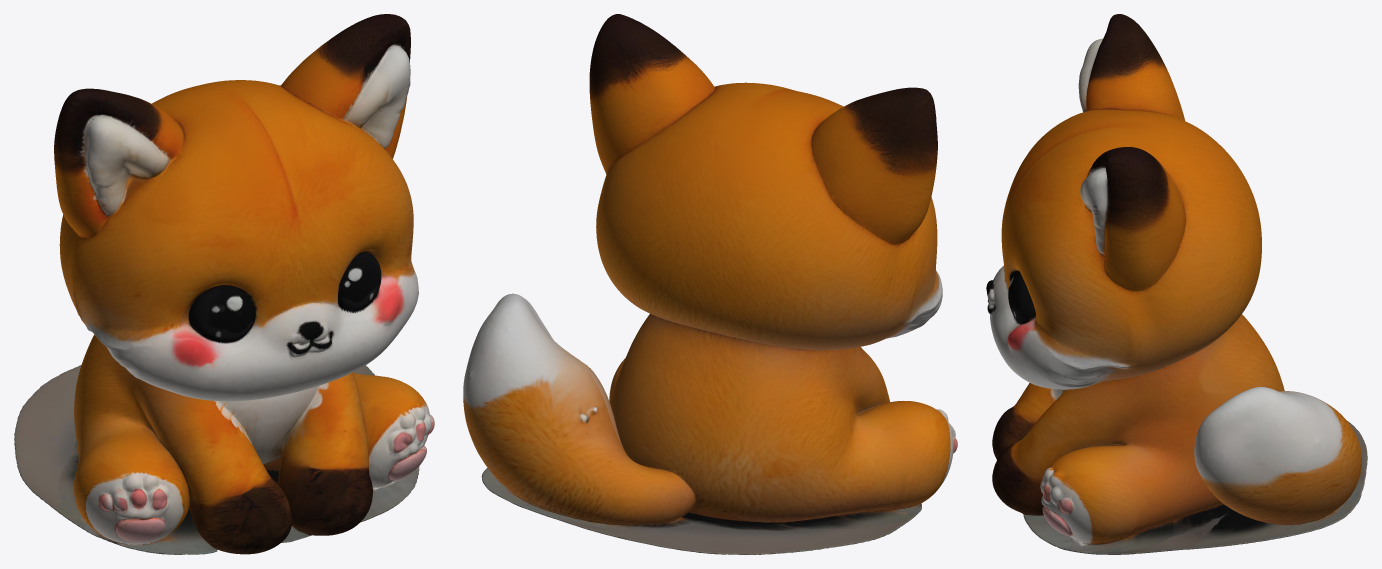
File: plush fox 3d model.glb
3 views of the same model, side by side, from view 1: azimuth 30°, elevation 25°; view 2: azimuth 150°, elevation 25°; view 3: azimuth 270°, elevation 25° (orthographic). The views are drawn at different scales.
Visible parts, largest first — view 1: tripo_node_f19a5df5-c2f6-42d5-8ebb-b0045eabef44; view 2: tripo_node_f19a5df5-c2f6-42d5-8ebb-b0045eabef44; view 3: tripo_node_f19a5df5-c2f6-42d5-8ebb-b0045eabef44.
Part boxes in pixels (x1,y1,x2,y2): tripo_node_f19a5df5-c2f6-42d5-8ebb-b0045eabef44: (14, 14, 434, 554); tripo_node_f19a5df5-c2f6-42d5-8ebb-b0045eabef44: (463, 14, 957, 554); tripo_node_f19a5df5-c2f6-42d5-8ebb-b0045eabef44: (986, 14, 1367, 554).
Size of the model in its own units: 0.9318 by 0.9999 by 0.851.
1 material, 1 textured.
